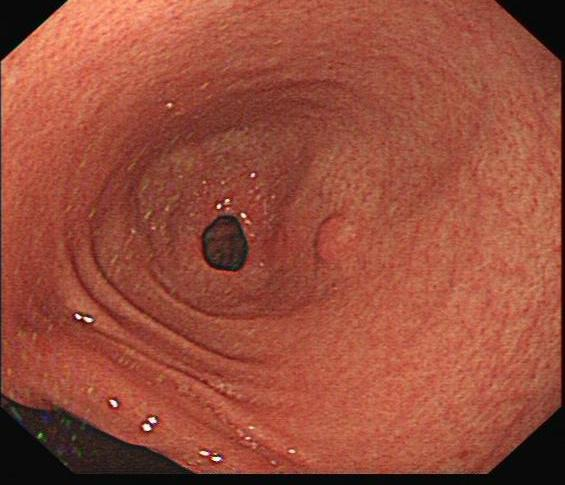Polyp: (310, 209, 364, 268)
